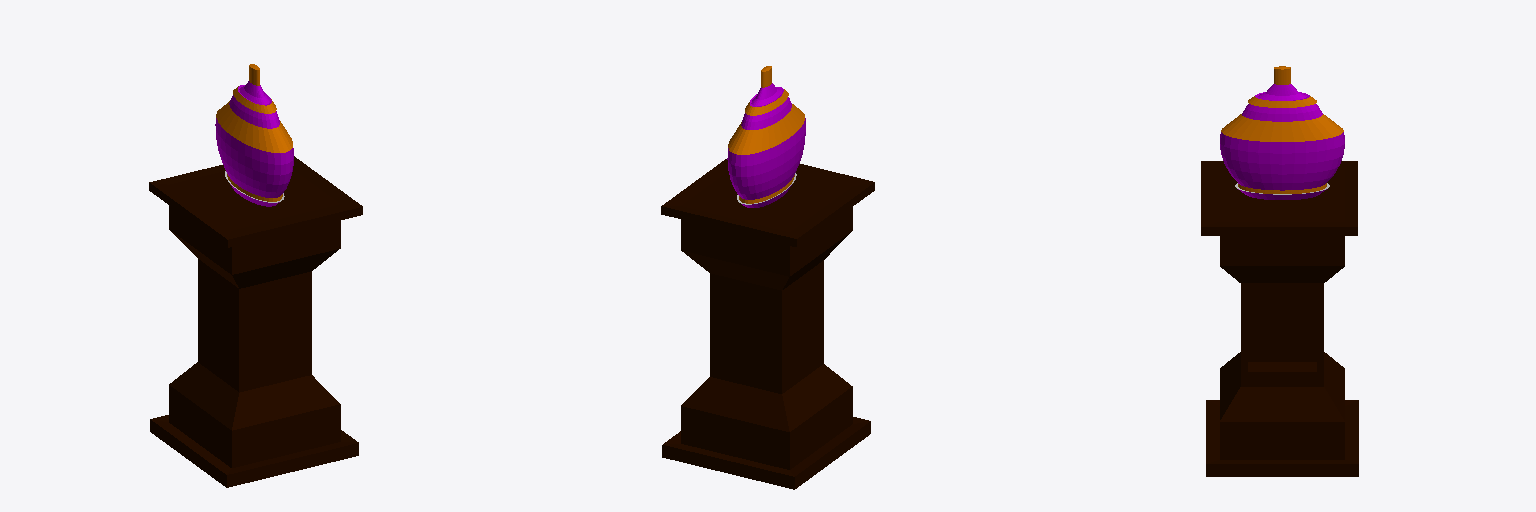
Rendered from potion_stand.obj.
3 views of the same model, side by side, from view 1: azimuth 30°, elevation 25°; view 2: azimuth 150°, elevation 25°; view 3: azimuth 270°, elevation 25° (orthographic).
Visible parts, largest first — view 1: Cube_Cube.001, Sphere.001; view 2: Cube_Cube.001, Sphere.001; view 3: Cube_Cube.001, Sphere.001.
Part boxes in pixels (x1,y1,x2,y2): Cube_Cube.001: (149, 156, 362, 487); Sphere.001: (215, 64, 293, 206); Cube_Cube.001: (661, 159, 874, 489); Sphere.001: (727, 66, 805, 207); Cube_Cube.001: (1201, 161, 1358, 476); Sphere.001: (1220, 66, 1344, 199).
Size of the model in its own units: 2.49 by 6.63 by 2.51.